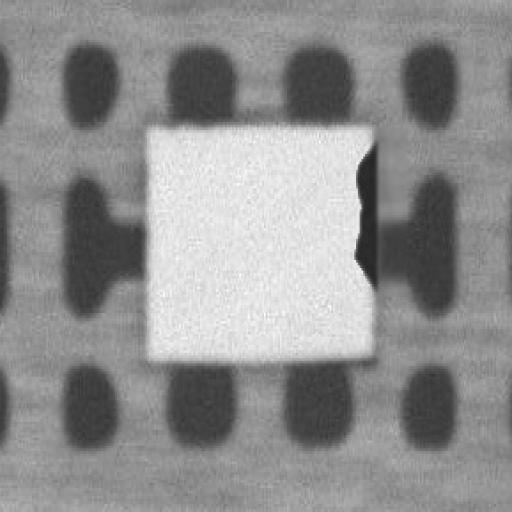DIE_BROKEN: (351, 135, 379, 289)
